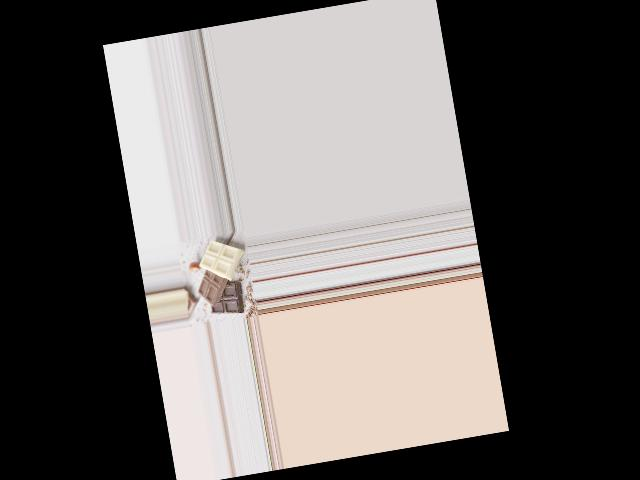chocolate: (189, 236, 250, 323)
